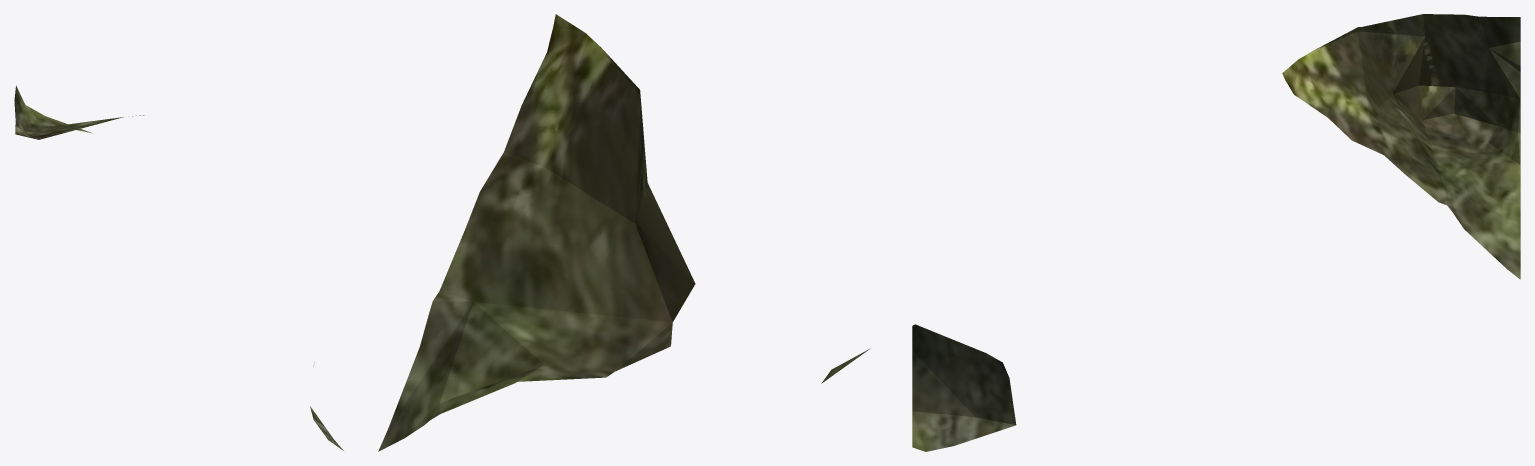
The picture shows the model from 3 angles, left to right: view 1: azimuth 30°, elevation 25°; view 2: azimuth 150°, elevation 25°; view 3: azimuth 270°, elevation 25°; orthographic projection. The views are drawn at different scales.
Size of the model in its own units: 0.9147 by 2.03 by 2.95.
Materials: 1 (1 with a texture image).
